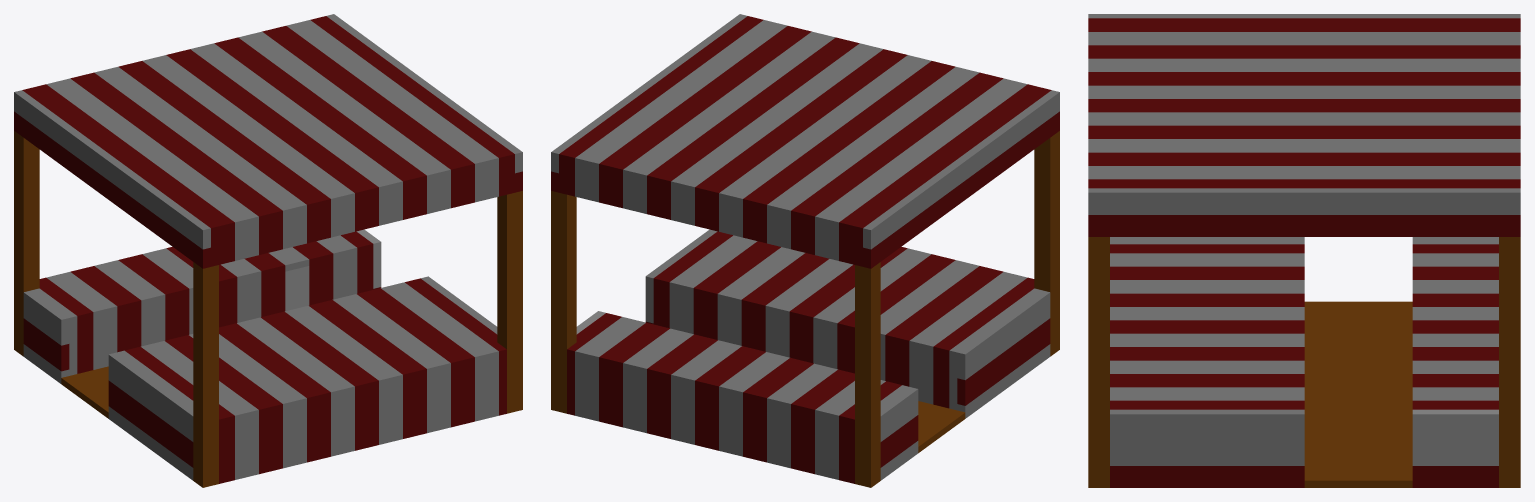
File: Stalls_Red.fbx
3 views of the same model, side by side, from view 1: azimuth 30°, elevation 25°; view 2: azimuth 150°, elevation 25°; view 3: azimuth 270°, elevation 25° (orthographic). The views are drawn at different scales.
Parts seen in each view (by area): view 1: Mesh; view 2: Mesh; view 3: Mesh.
Part boxes in pixels (bbox=[...]): Mesh: bbox=[14, 14, 522, 487]; Mesh: bbox=[551, 14, 1059, 487]; Mesh: bbox=[1088, 14, 1520, 487].
Size of the model in its own units: 3.88 by 2.99 by 3.96.
1 material, 1 textured.
